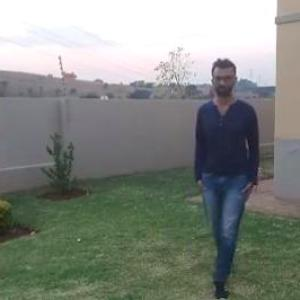follow: (174, 48, 262, 299)
